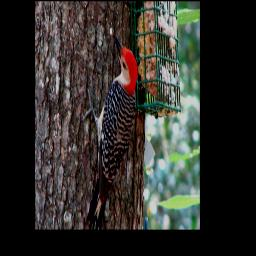Woodpecker: (80, 28, 138, 229)
